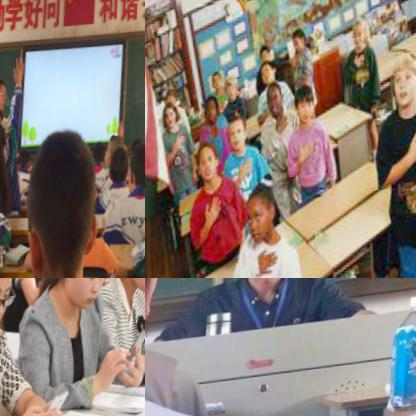head: (25, 125, 106, 278), (245, 182, 287, 251), (61, 278, 113, 318), (391, 52, 416, 117), (0, 278, 25, 341), (193, 138, 222, 184), (294, 83, 319, 125), (227, 114, 250, 154), (112, 153, 133, 195), (130, 146, 145, 202), (106, 139, 129, 175), (266, 81, 286, 119), (349, 20, 370, 54), (201, 94, 219, 126), (93, 142, 110, 174), (162, 99, 180, 128), (259, 59, 279, 84), (0, 125, 11, 164), (291, 29, 308, 53), (0, 78, 10, 118), (224, 78, 240, 102), (21, 149, 34, 175), (166, 87, 180, 109), (210, 70, 223, 92), (258, 45, 272, 63)
